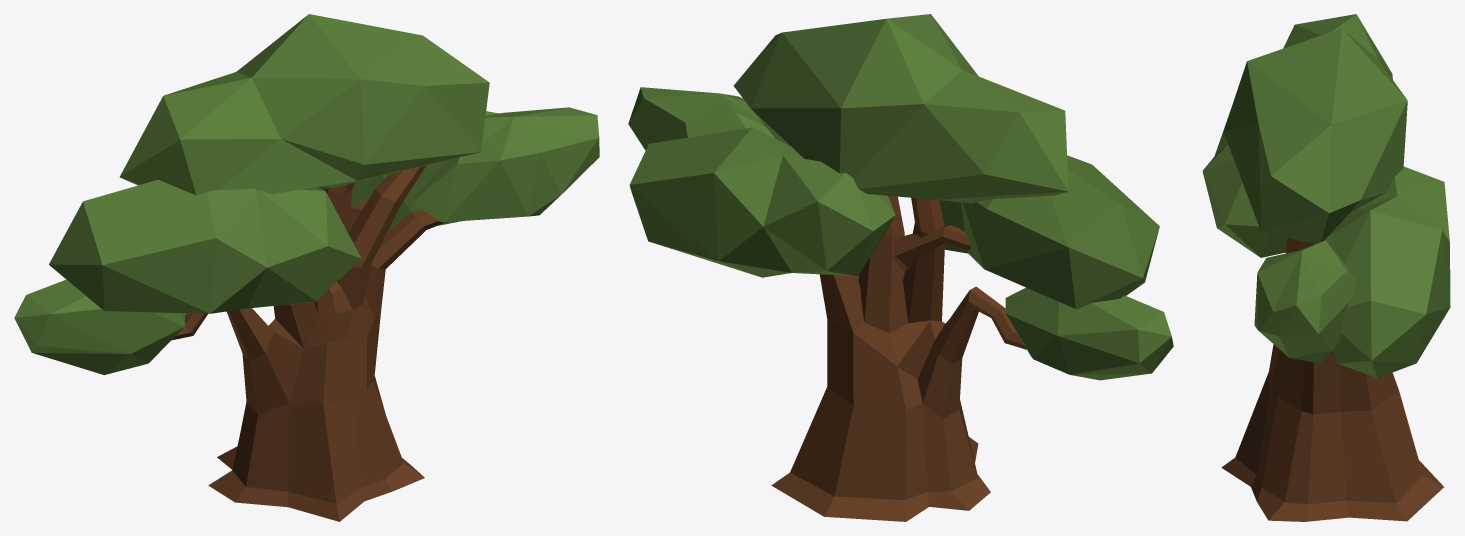
Rendered from Tree3.53f93e16.glb.
3 renders of one model, left to right at view 1: azimuth 30°, elevation 25°; view 2: azimuth 150°, elevation 25°; view 3: azimuth 270°, elevation 25°, orthographic.
Visible parts, largest first — view 1: tree-baobab; view 2: tree-baobab; view 3: tree-baobab.
Part boxes in pixels (bbox=[...]): tree-baobab: bbox=[14, 14, 599, 521]; tree-baobab: bbox=[628, 14, 1173, 521]; tree-baobab: bbox=[1202, 14, 1450, 521].
Bounding box in the file's own units: 32.41 × 25.47 × 12.61.
1 material, 1 textured.
